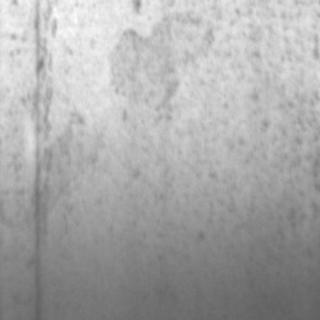inclusion: (15, 18, 59, 314)
pitted_surface: (82, 7, 318, 306)
